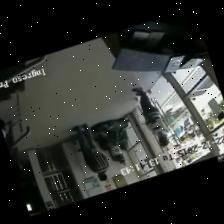person: (131, 87, 167, 146), (72, 123, 108, 180), (5, 121, 23, 181), (166, 108, 184, 140), (183, 117, 194, 137), (190, 116, 198, 132)
